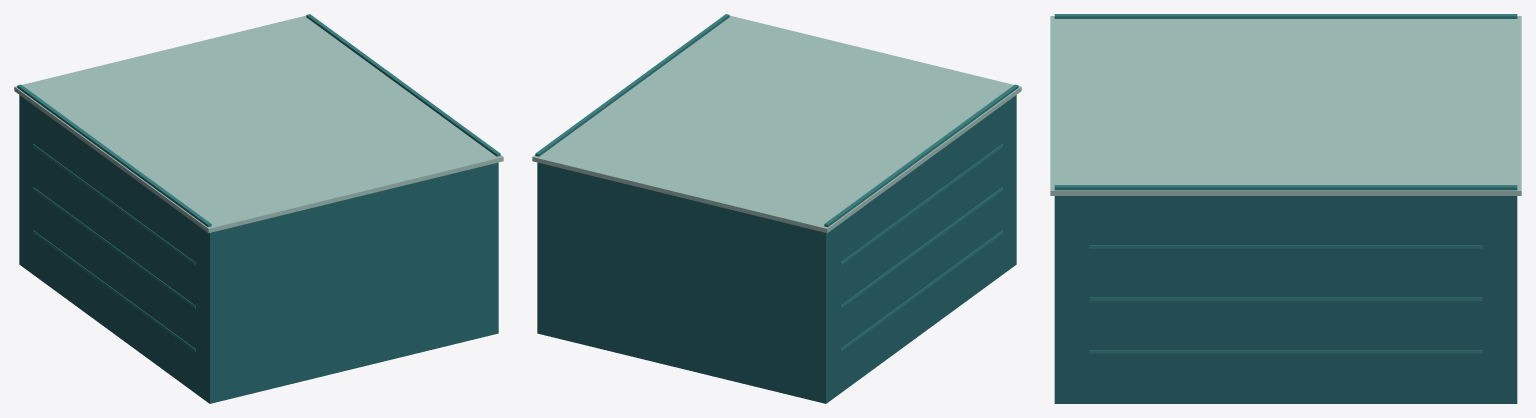
Rendered from roof_short.glb.
The picture shows the model from 3 angles, left to right: view 1: azimuth 30°, elevation 25°; view 2: azimuth 150°, elevation 25°; view 3: azimuth 270°, elevation 25°; orthographic projection. The views are drawn at different scales.
Visible parts, largest first — view 1: roof_short; view 2: roof_short; view 3: roof_short.
Boxes of the visible parts, box(x1,y1,x2,y2) form: roof_short: box(14, 14, 503, 403); roof_short: box(532, 14, 1021, 403); roof_short: box(1050, 14, 1521, 403).
Bounding box in the file's own units: 14.3 × 8.31 × 16.3.
